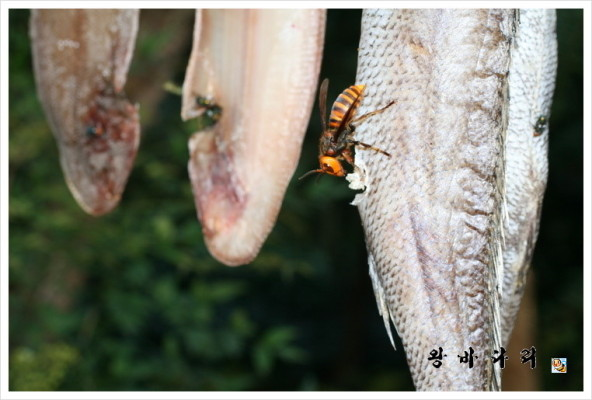asian_giant_hornet: (314, 74, 361, 181)
